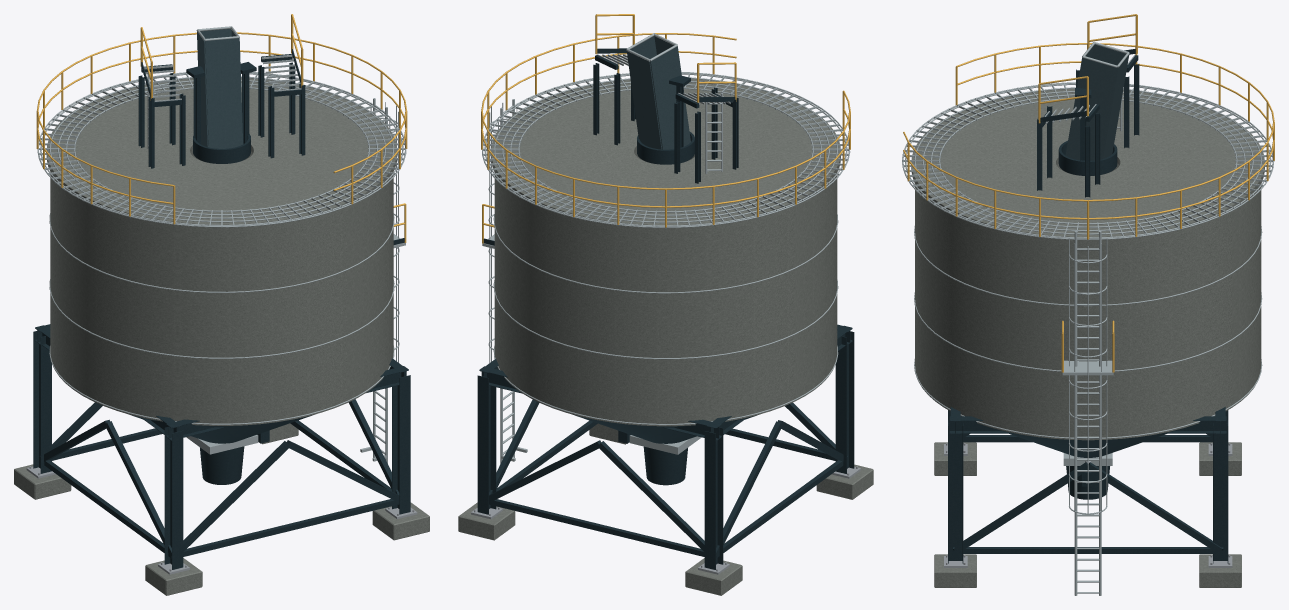
The model's file is mine-coal-silo-2.glb.
3 views of the same model, side by side, from view 1: azimuth 30°, elevation 25°; view 2: azimuth 150°, elevation 25°; view 3: azimuth 270°, elevation 25° (orthographic).
Parts seen in each view (by area): view 1: Transport_concrete, Transport_steel, Transport_trim, Transport_safety, Transport_roof, Transport_machined; view 2: Transport_concrete, Transport_steel, Transport_trim, Transport_safety, Transport_roof, Transport_machined; view 3: Transport_concrete, Transport_trim, Transport_steel, Transport_safety, Transport_roof, Transport_machined.
Boxes of the visible parts, left/top/right/bottom form: Transport_concrete: left=14, top=77, right=429, bottom=595; Transport_steel: left=33, top=49, right=410, bottom=569; Transport_trim: left=37, top=26, right=406, bottom=463; Transport_safety: left=36, top=14, right=407, bottom=242; Transport_roof: left=197, top=29, right=243, bottom=148; Transport_machined: left=26, top=466, right=417, bottom=574; Transport_concrete: left=458, top=79, right=873, bottom=595; Transport_steel: left=477, top=48, right=854, bottom=569; Transport_trim: left=482, top=33, right=850, bottom=463; Transport_safety: left=481, top=14, right=850, bottom=243; Transport_roof: left=626, top=36, right=690, bottom=149; Transport_machined: left=471, top=466, right=860, bottom=574; Transport_concrete: left=911, top=89, right=1264, bottom=587; Transport_trim: left=902, top=42, right=1274, bottom=595; Transport_steel: left=948, top=49, right=1228, bottom=563; Transport_safety: left=903, top=14, right=1274, bottom=372; Transport_roof: left=1065, top=44, right=1129, bottom=160; Transport_machined: left=944, top=443, right=1232, bottom=567.
Bounding box in the file's own units: 9.59 × 13.04 × 9.15.
6 materials, 3 textured.
